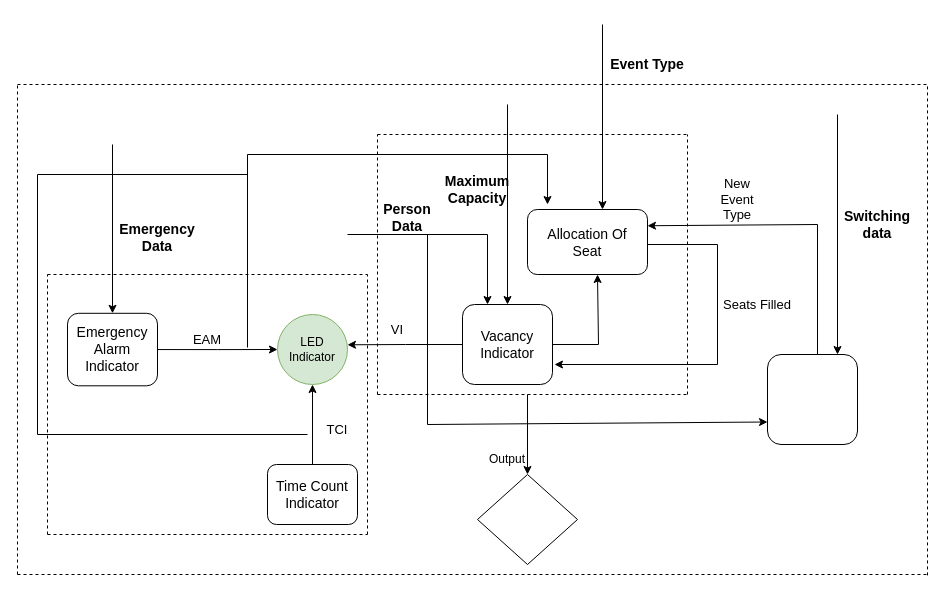
This 947x594 diagram has some shape labels left out. Each missing label, with the centre of its shape:
Event Switcher: point 812,399
Participant Count: point 527,519
